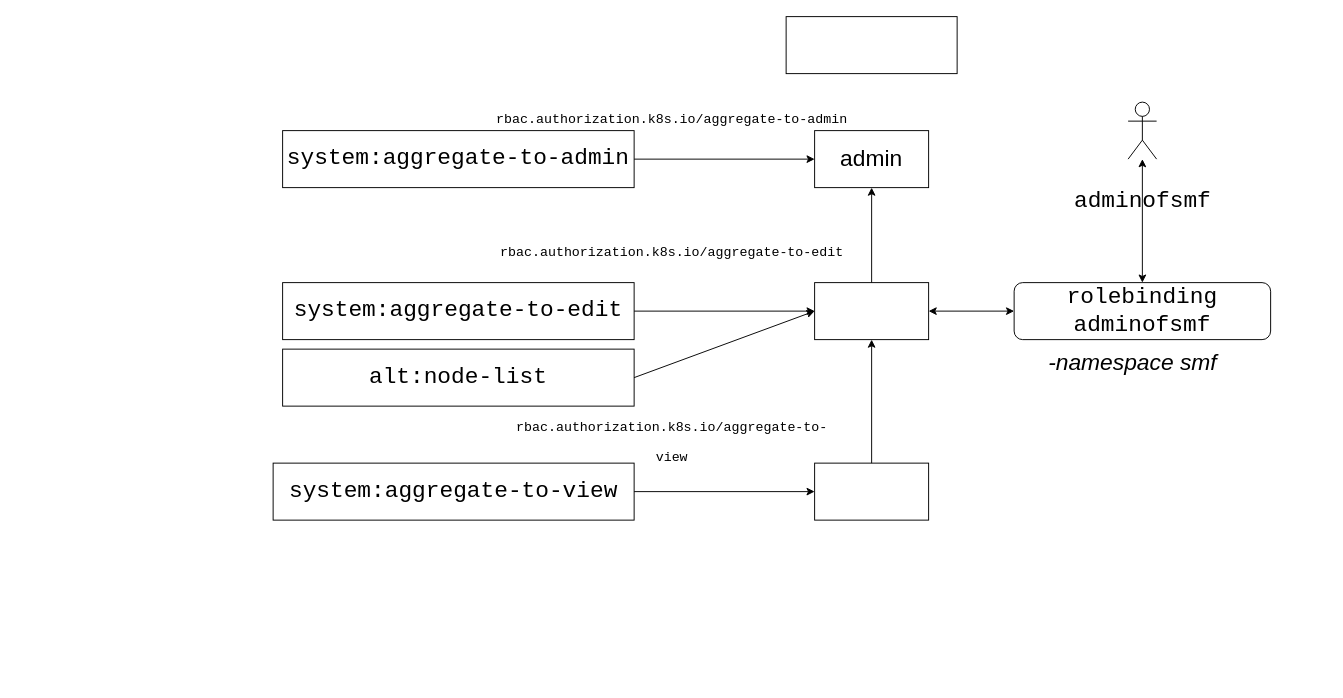
Some shapes in this 1343 by 698 pixel diagram are drawn without their labels. Here are the shapes that lost their labels. From the top down, the box of each, then its label:
(785, 16, 957, 74): cluster-admin
(814, 282, 929, 340): edit
(814, 462, 929, 520): view
